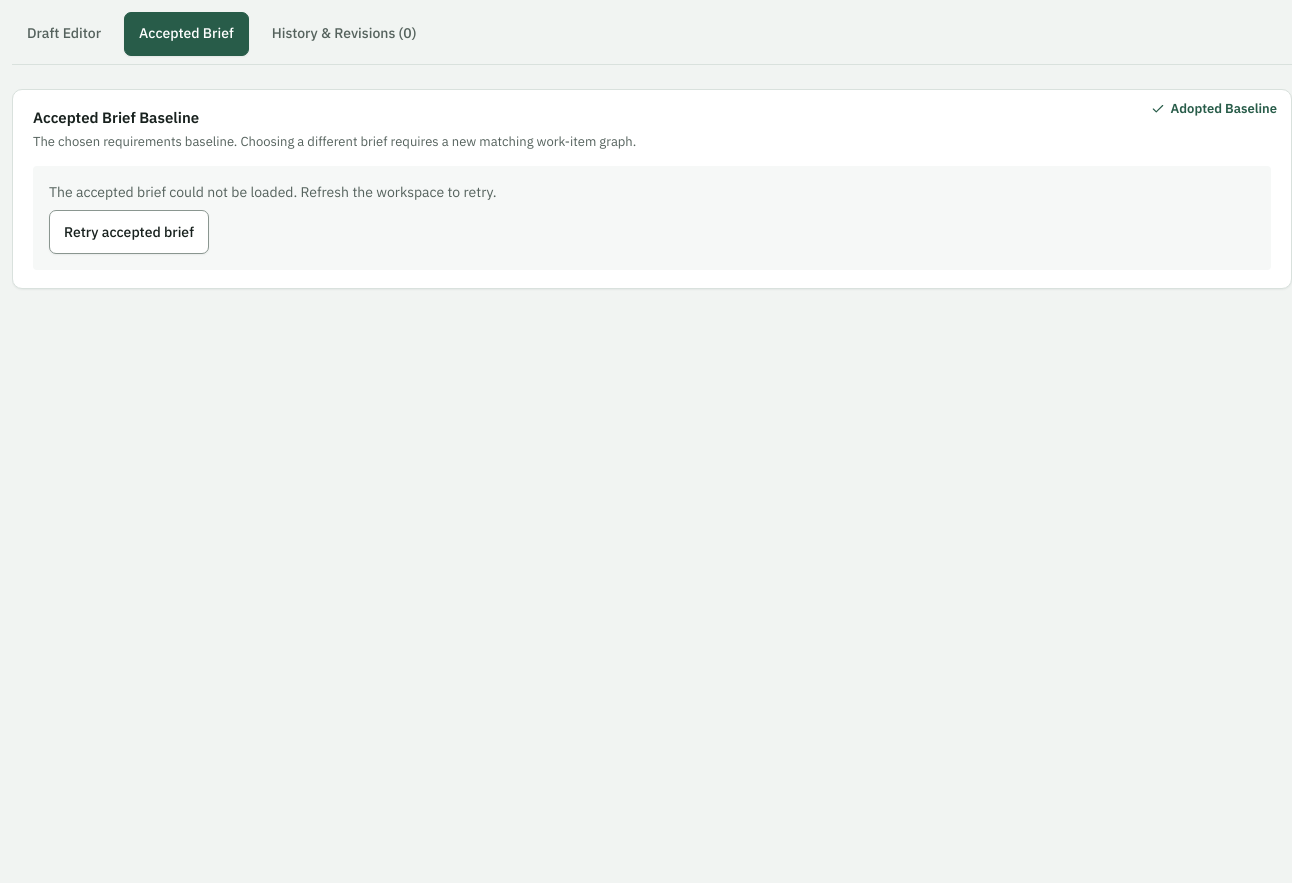
Test case: BriefEditor › reports neutral truthful wording when epic version changes on server while local draft is dirty
Click the button "Draft Editor" at {"x": 64, "y": 34}, box x1=12 y1=12 x2=116 y2=56
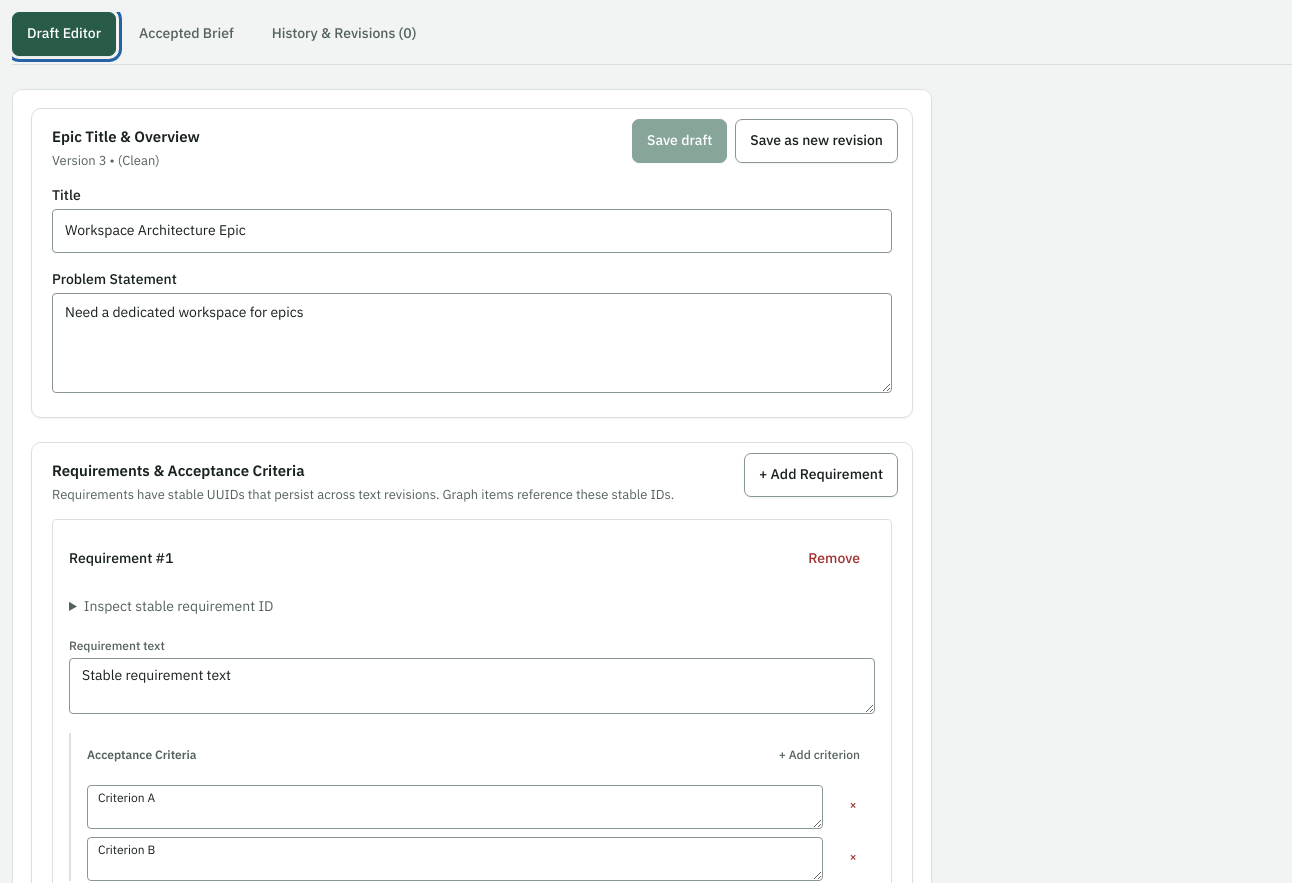
Clear the field showing "Workspace Architecture Epic" at {"x": 472, "y": 231}, box x1=52 y1=209 x2=892 y2=253
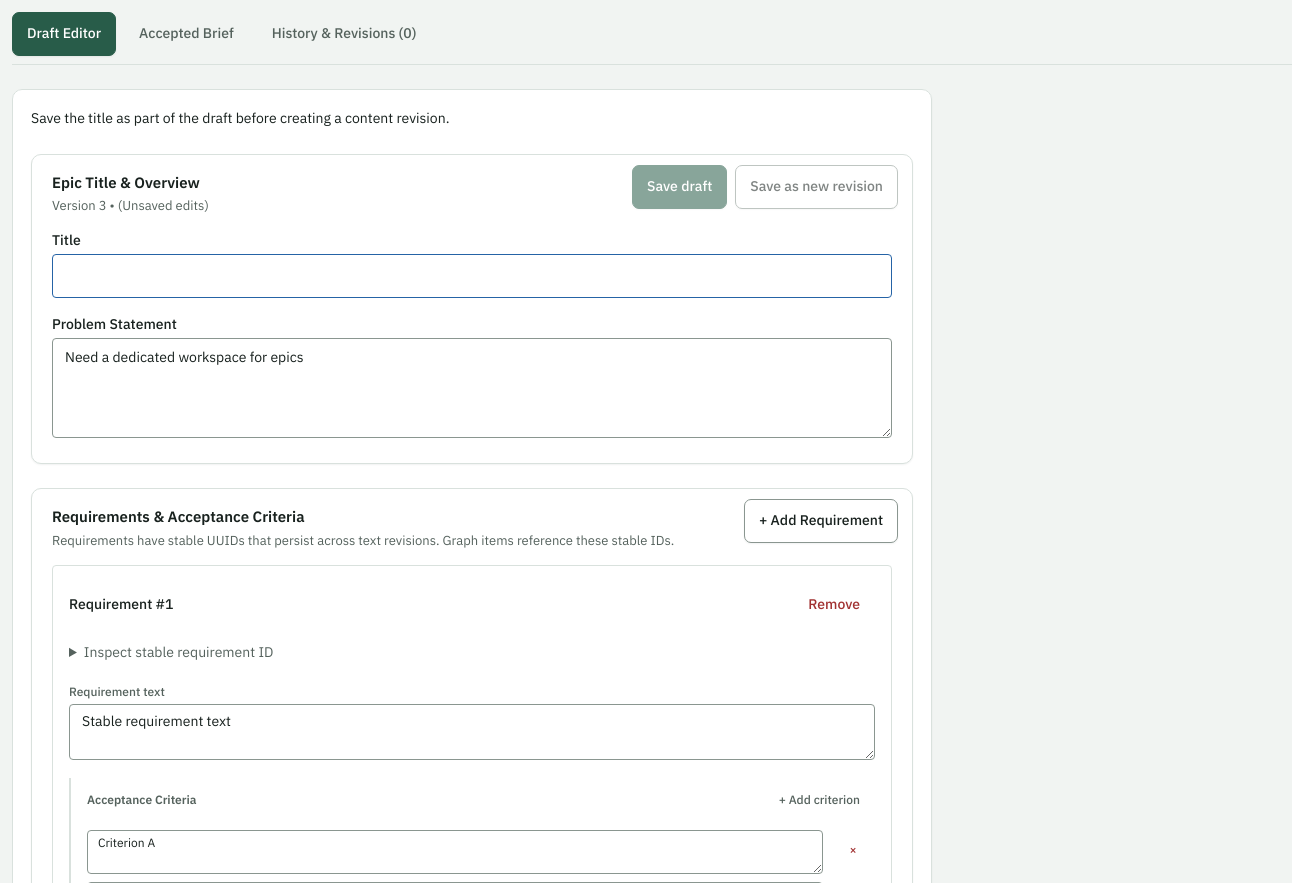
Type "Local unsaved change" into the field showing "Workspace Architecture Epic" at {"x": 472, "y": 276}, box x1=52 y1=254 x2=892 y2=298
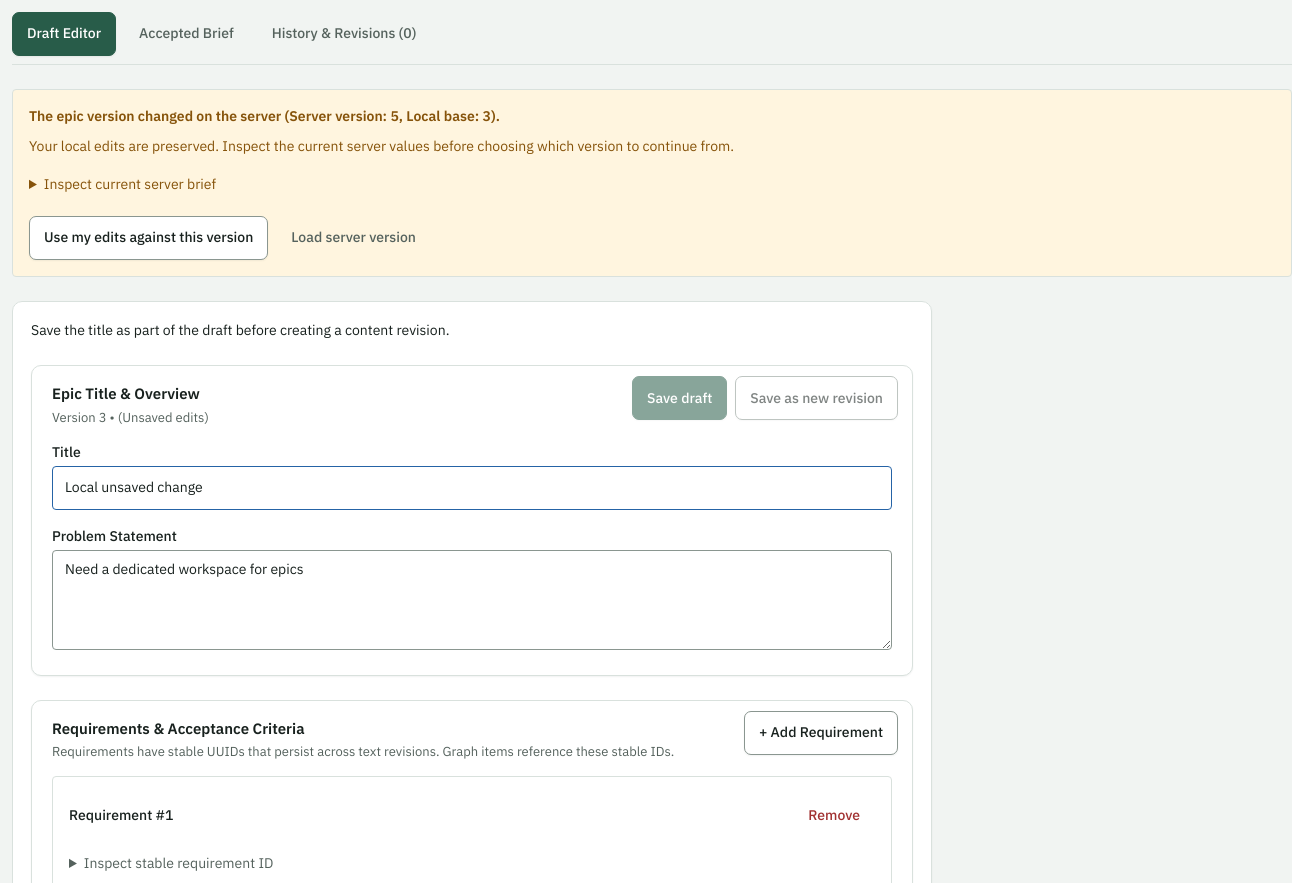
Expected: the text "The epic version changed on the server (Server version: 5, Local base: 3)" is shown, x1=29 y1=107 x2=500 y2=125
